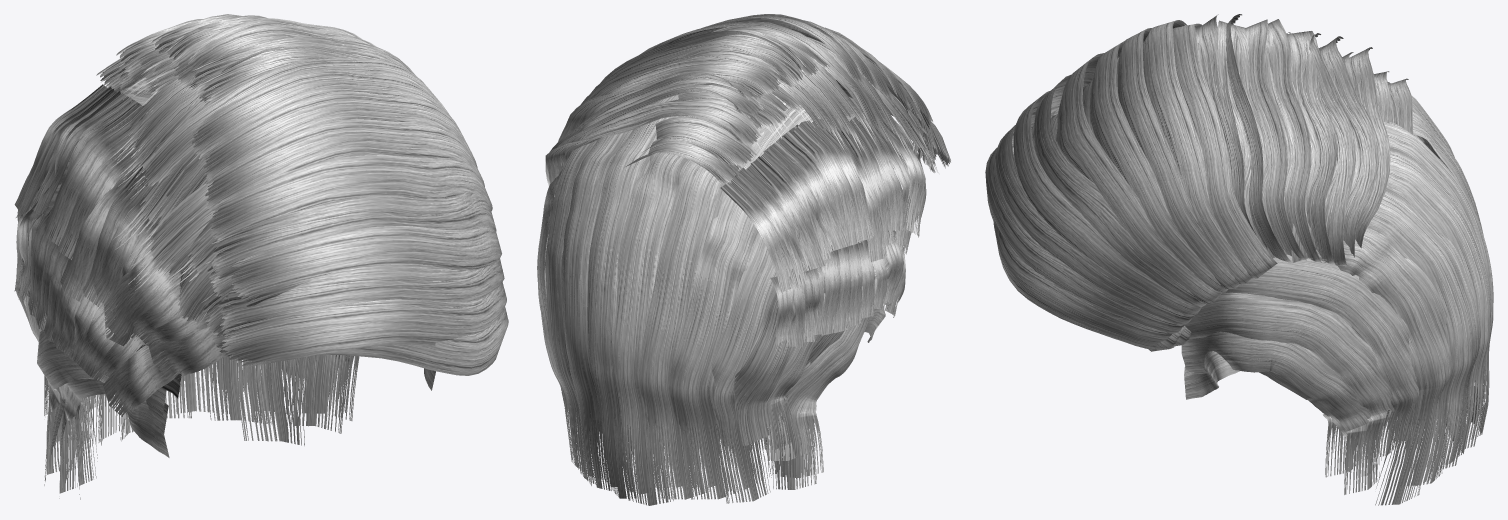
File: hair_grump_m_light.glb
The picture shows the model from 3 angles, left to right: view 1: azimuth 30°, elevation 25°; view 2: azimuth 150°, elevation 25°; view 3: azimuth 270°, elevation 25°; orthographic projection. The views are drawn at different scales.
Visible parts, largest first — view 1: haircards; view 2: haircards; view 3: haircards.
Boxes of the visible parts, bbox=[...] form: haircards: bbox=[14, 14, 508, 499]; haircards: bbox=[537, 14, 950, 505]; haircards: bbox=[985, 14, 1493, 505].
Size of the model in its own units: 0.1775 by 0.2205 by 0.2357.
Materials: 1 (1 with a texture image).
